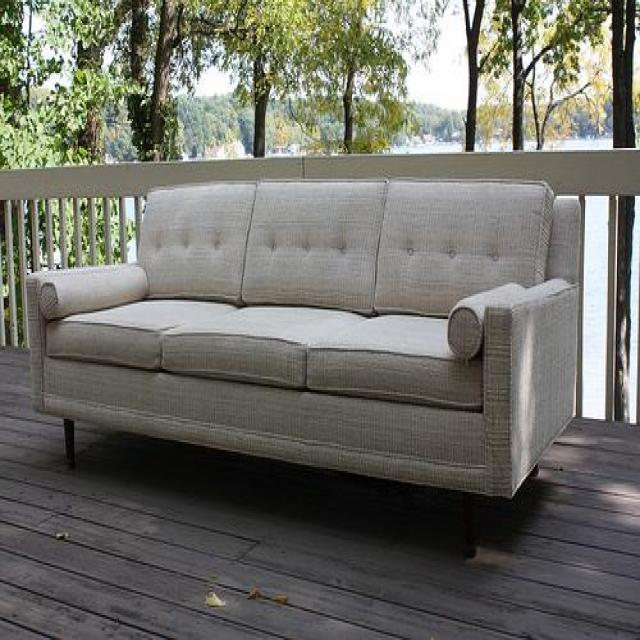sofa: (23, 173, 582, 552)
